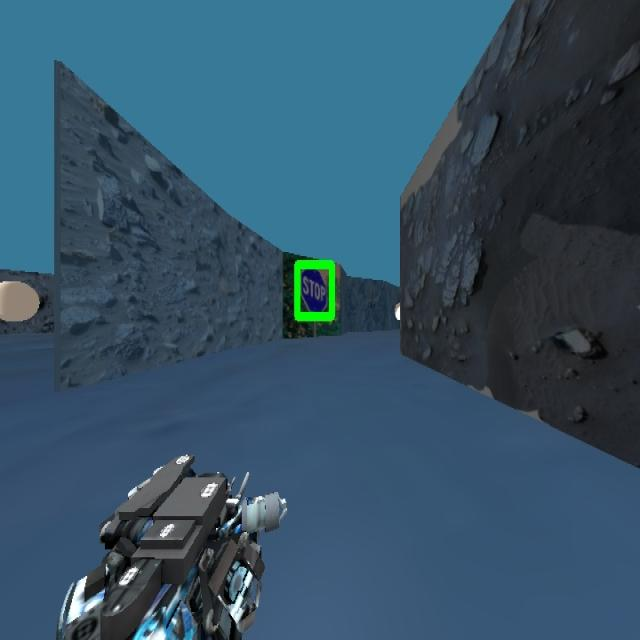Circle: (0, 253, 52, 339), (393, 304, 408, 321)
Stop_Sign: (292, 257, 336, 323)
